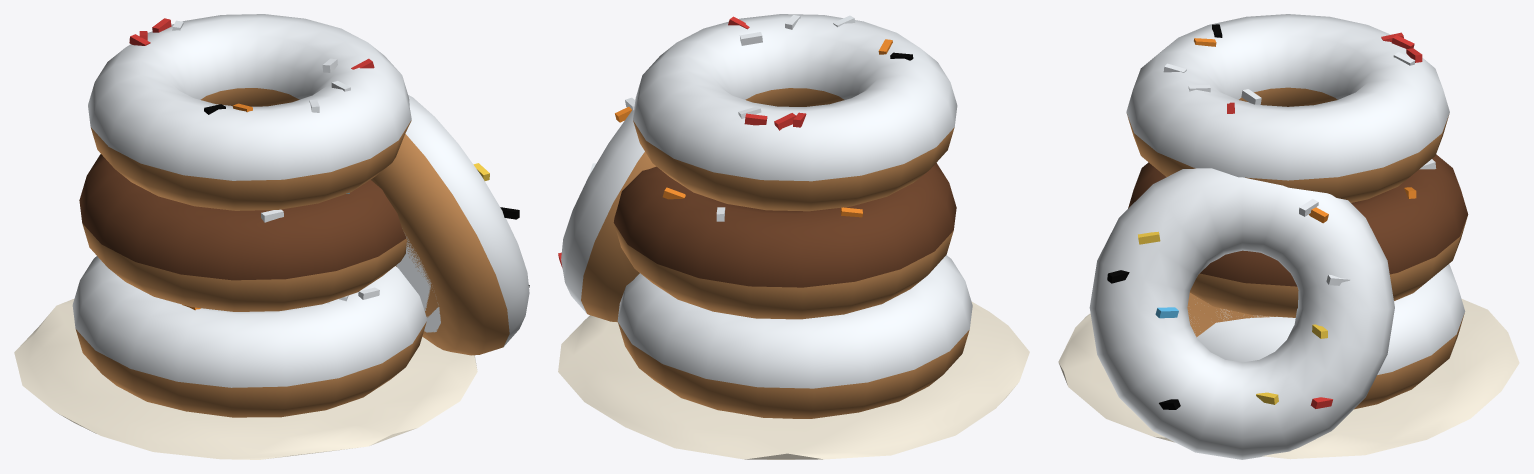
Rendered from DonutStack.fbx.
3 renders of one model, left to right at view 1: azimuth 30°, elevation 25°; view 2: azimuth 150°, elevation 25°; view 3: azimuth 270°, elevation 25°, orthographic.
Visible parts, largest first — view 1: DonutStack; view 2: DonutStack; view 3: DonutStack.
Part boxes in pixels (x1,y1,x2,y2): DonutStack: [14, 14, 529, 459]; DonutStack: [558, 14, 1029, 459]; DonutStack: [1058, 14, 1519, 459].
Size of the model in its own units: 1.58 by 1.11 by 1.51.
Materials: 2 (2 with a texture image).
